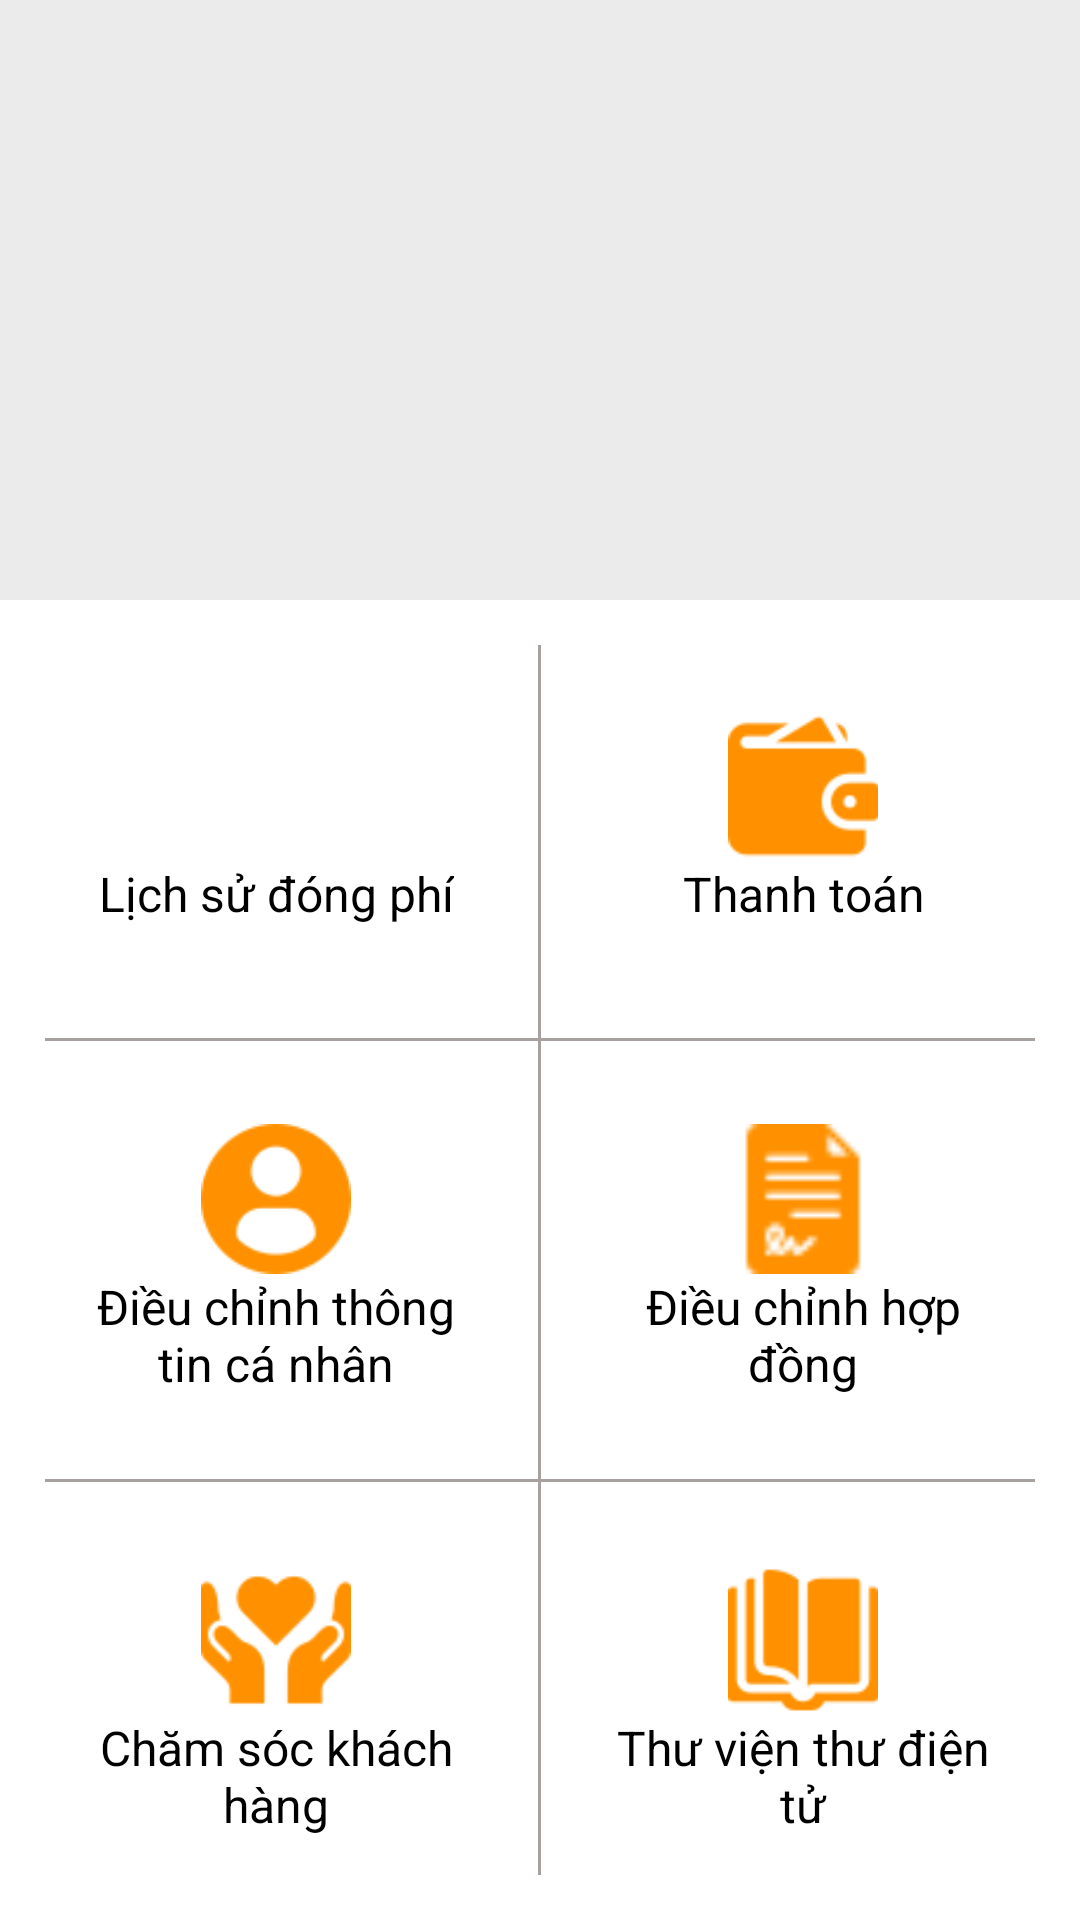

Named icons in this screenshot (1080 × 1920) and their bounding boxes, (x1, y1, x2, y2):
profileuser: (201, 1124, 351, 1274)
wallet: (728, 715, 878, 857)
